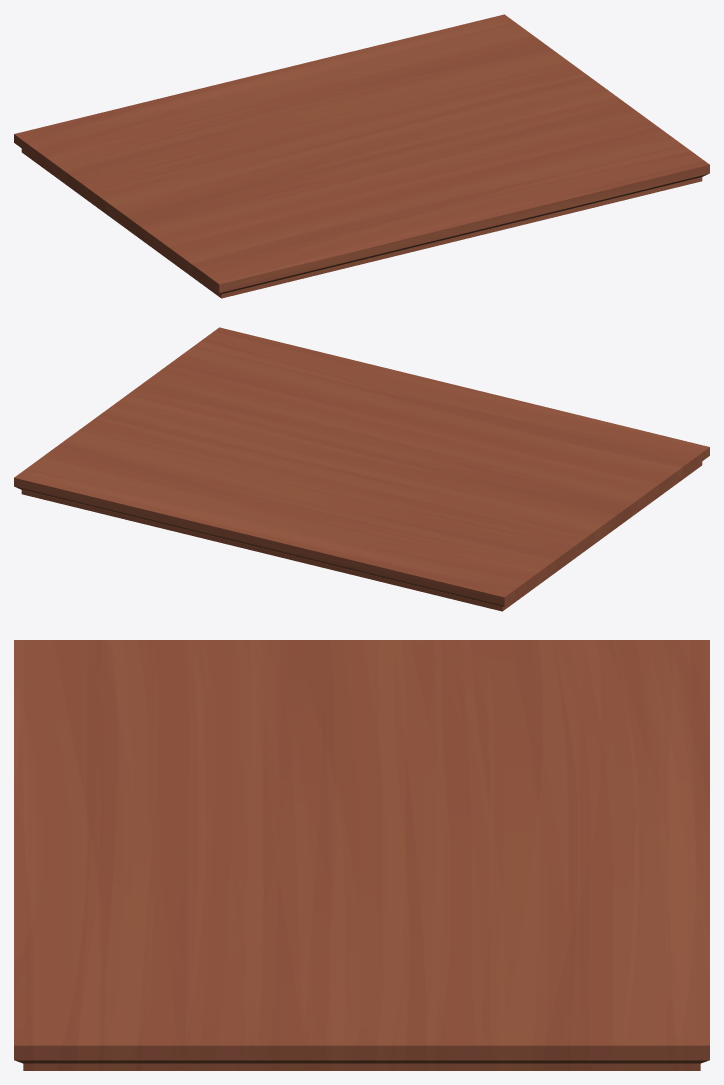
The model's file is BedLedge_Mod.FBX.
3 renders of one model, top to bottom at view 1: azimuth 30°, elevation 25°; view 2: azimuth 150°, elevation 25°; view 3: azimuth 270°, elevation 25°, orthographic. The views are drawn at different scales.
Parts seen in each view (by area): view 1: BedLedge; view 2: BedLedge; view 3: BedLedge.
Part boxes in pixels (box(x1,y1,x2,y2)): BedLedge: box(14, 14, 709, 298); BedLedge: box(14, 327, 709, 611); BedLedge: box(14, 640, 709, 1070).
Size of the model in its own units: 2.37 by 0.08 by 1.72.
Materials: 1 (1 with a texture image).
